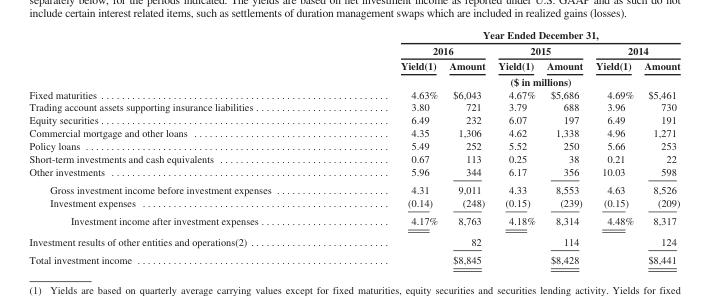table: (28, 28, 679, 265)
table column: (28, 28, 335, 265), (335, 28, 442, 265), (588, 28, 638, 265), (442, 28, 491, 265), (491, 28, 540, 265), (540, 28, 588, 265), (638, 28, 679, 265)
table column header: (28, 28, 679, 87)
table row: (28, 230, 679, 250), (28, 211, 679, 230), (28, 57, 679, 73), (28, 180, 679, 196), (28, 42, 679, 57), (28, 165, 679, 180), (28, 196, 679, 211), (28, 250, 679, 265), (28, 28, 679, 42), (28, 73, 679, 87), (28, 87, 679, 100), (28, 100, 679, 113), (28, 113, 679, 126), (28, 126, 679, 139), (28, 139, 679, 152), (28, 152, 679, 165)
table spanning cell: (335, 28, 679, 42), (335, 73, 679, 87), (335, 42, 491, 57), (491, 42, 588, 57), (588, 42, 679, 57)
